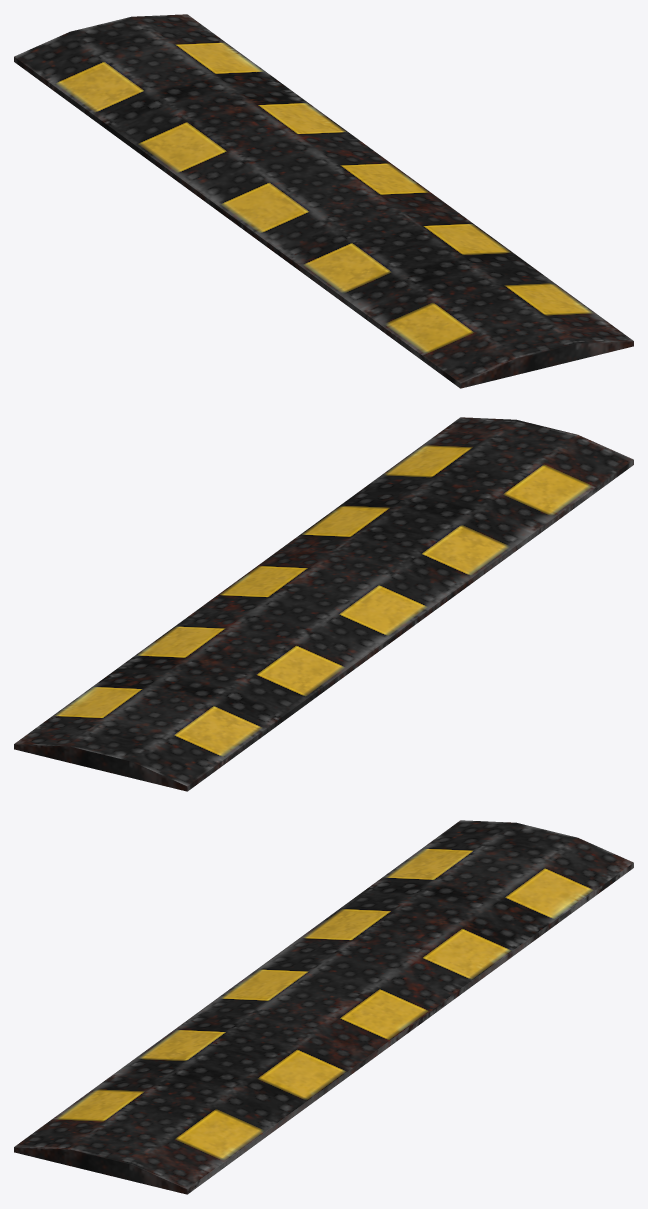
Rendered from HH_Speed_Bump_2m.fbx.
3 views of the same model, one above another, from view 1: azimuth 30°, elevation 25°; view 2: azimuth 150°, elevation 25°; view 3: azimuth 330°, elevation 25° (orthographic).
Parts seen in each view (by area): view 1: HH_Speed_Bump_2m; view 2: HH_Speed_Bump_2m; view 3: HH_Speed_Bump_2m.
Boxes of the visible parts, x1=… form: HH_Speed_Bump_2m: x1=14, y1=14, x2=633, y2=388; HH_Speed_Bump_2m: x1=14, y1=417, x2=633, y2=791; HH_Speed_Bump_2m: x1=14, y1=820, x2=633, y2=1194.
Bounding box in the file's own units: 44.86 × 4.06 × 200.
